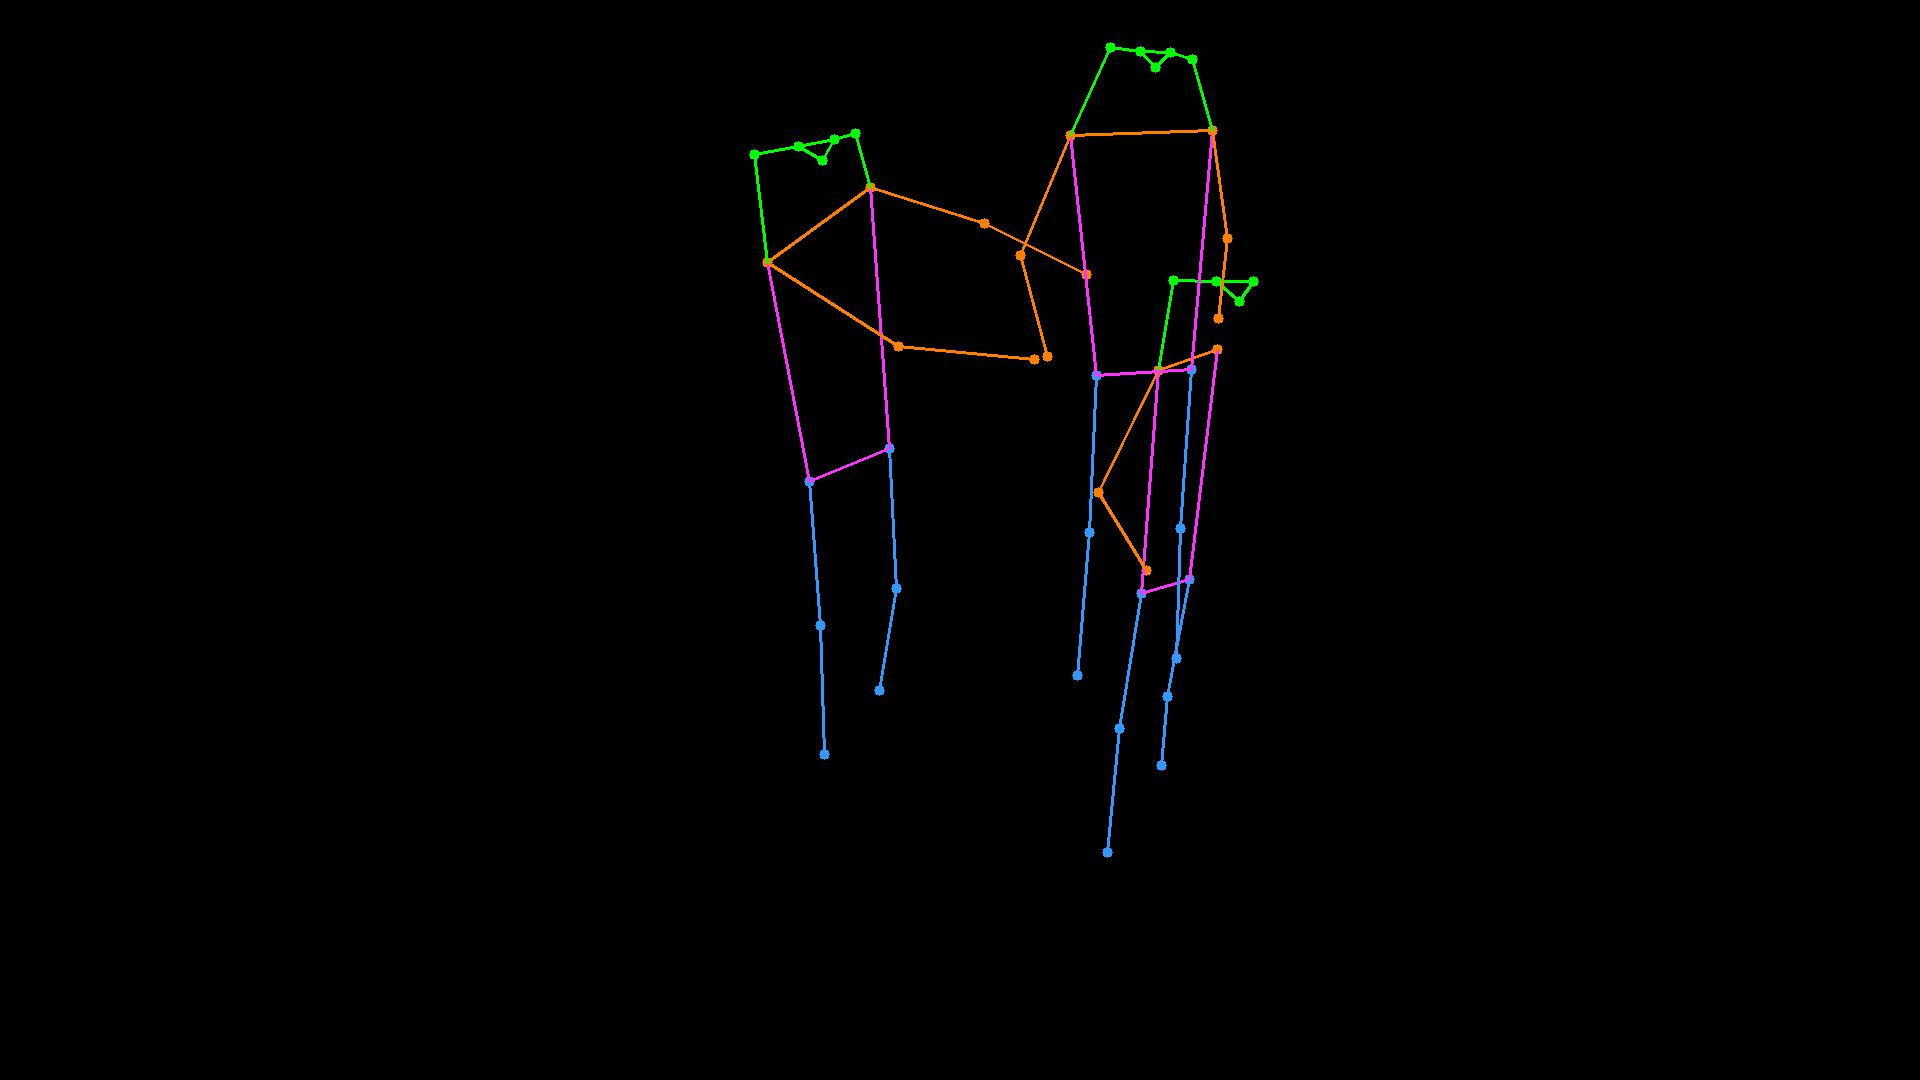normal: (683, 18, 1335, 919)
